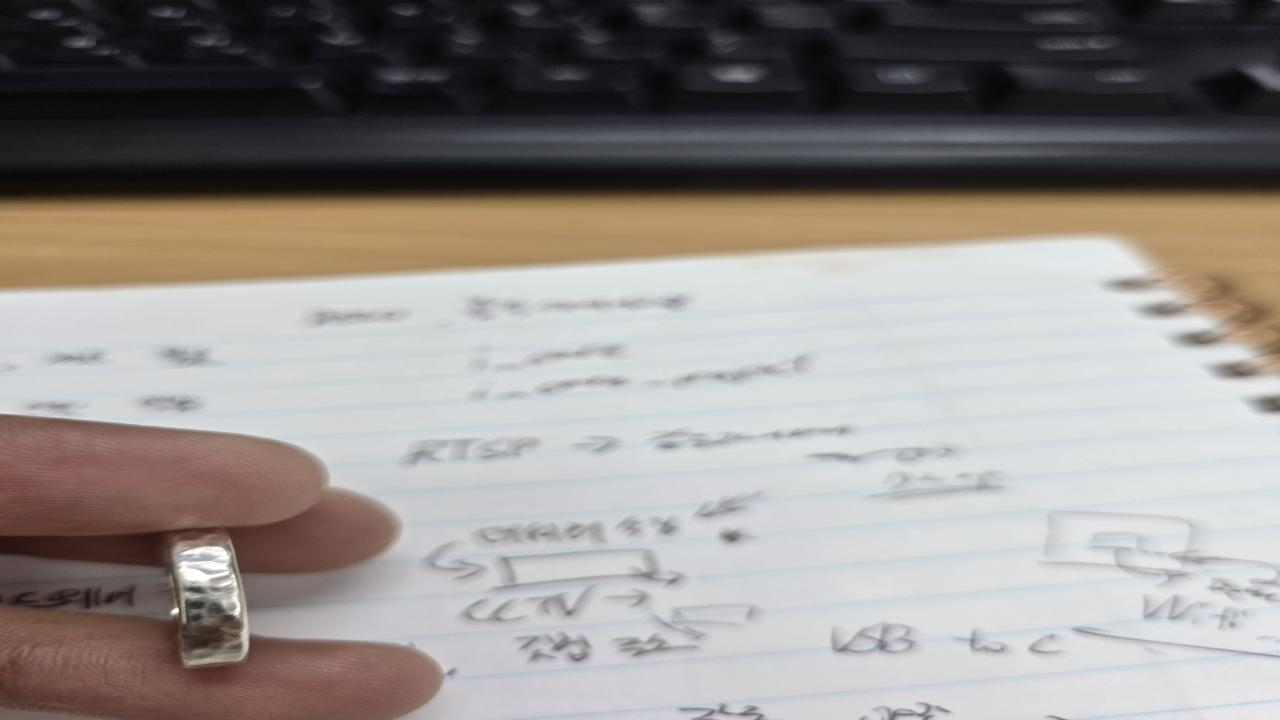ring: (162, 525, 255, 668)
